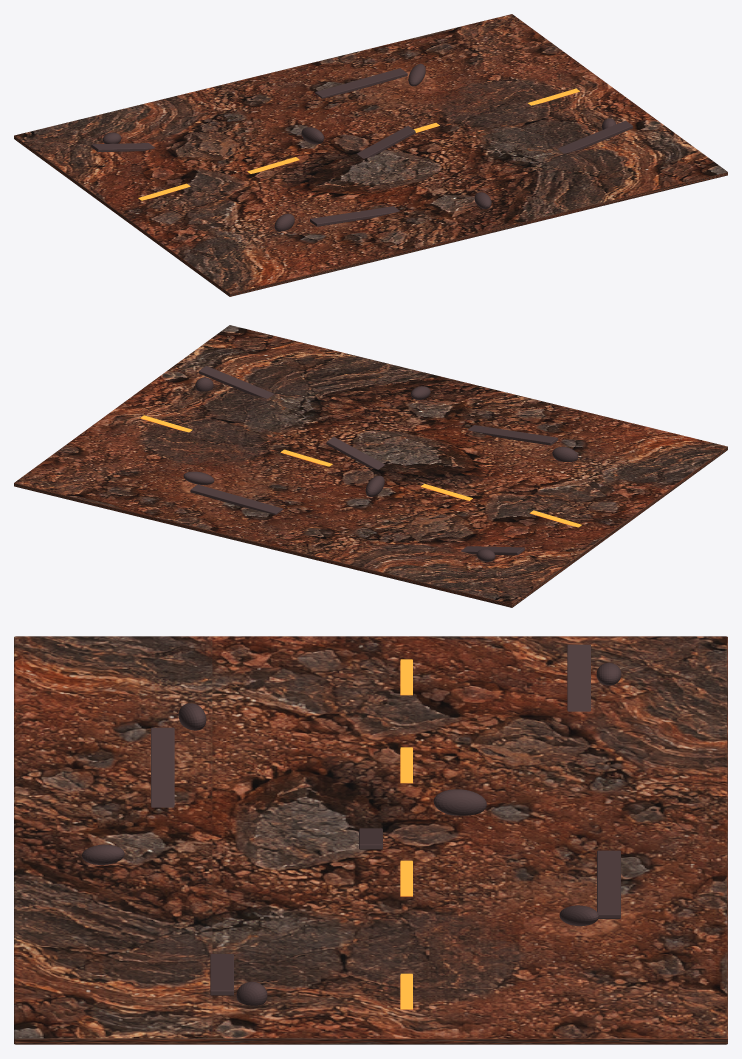
Rendered from resonance_surface_set.glb.
3 renders of one model, top to bottom at view 1: azimuth 30°, elevation 25°; view 2: azimuth 150°, elevation 25°; view 3: azimuth 270°, elevation 25°, orthographic. The views are drawn at different scales.
Visible parts, largest first — view 1: Ground/strata, Strata/2, Strata/1, Strata/3, Strata/4, Strata/0; view 2: Ground/strata, Strata/2, Strata/1, Strata/3, Strata/4; view 3: Ground/strata, Strata/1, Strata/2, Strata/0, LooseRock/5, Strata/3, LooseRock/4, LooseRock/2.
Part boxes in pixels (bbox=[...]): Ground/strata: bbox=[14, 14, 727, 296]; Strata/2: bbox=[315, 68, 407, 98]; Strata/1: bbox=[310, 206, 399, 226]; Strata/3: bbox=[557, 120, 633, 153]; Strata/4: bbox=[357, 126, 415, 158]; Strata/0: bbox=[91, 143, 154, 152]; Ground/strata: bbox=[14, 325, 727, 607]; Strata/2: bbox=[190, 484, 282, 514]; Strata/1: bbox=[468, 425, 557, 445]; Strata/3: bbox=[198, 366, 274, 398]; Strata/4: bbox=[326, 437, 384, 469]; Ground/strata: bbox=[14, 636, 727, 1044]; Strata/1: bbox=[151, 727, 174, 807]; Strata/2: bbox=[597, 850, 620, 918]; Strata/0: bbox=[567, 644, 590, 711]; LooseRock/5: bbox=[433, 789, 486, 815]; Strata/3: bbox=[210, 954, 233, 995]; LooseRock/4: bbox=[82, 844, 124, 864]; LooseRock/2: bbox=[559, 905, 598, 926].
Size of the model in its own units: 32 by 1.67 by 24.
Materials: 3 (1 with a texture image).
